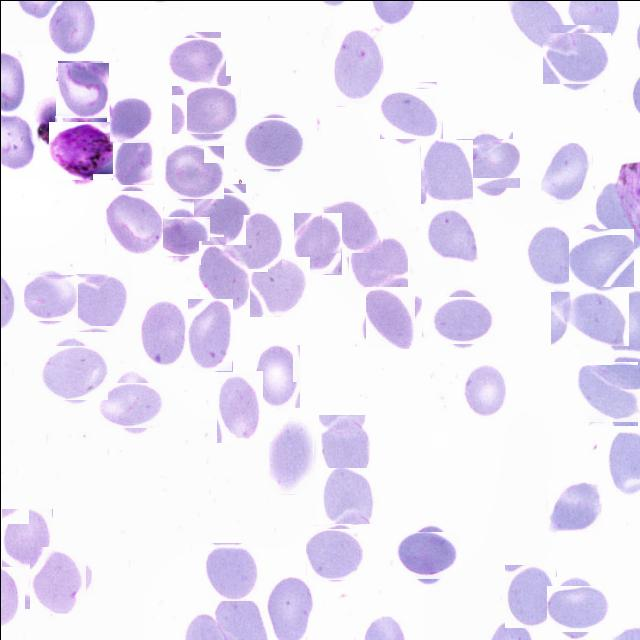gametocyte: (51, 118, 115, 182)
red blood cell: (550, 291, 628, 345), (570, 225, 632, 288), (26, 548, 88, 610), (42, 340, 104, 402), (334, 28, 382, 106), (104, 190, 162, 254), (578, 362, 638, 423), (66, 272, 126, 332), (546, 28, 606, 88), (248, 256, 308, 316), (198, 240, 248, 312), (138, 295, 186, 369), (318, 414, 370, 482), (176, 80, 235, 139), (244, 113, 303, 172), (348, 235, 408, 292), (419, 139, 472, 203), (163, 143, 221, 201), (104, 376, 162, 434), (458, 134, 516, 192), (525, 224, 578, 287), (216, 370, 262, 442), (382, 85, 440, 142), (187, 298, 232, 371), (504, 564, 556, 627), (204, 542, 259, 601), (268, 422, 313, 494), (422, 204, 477, 262), (540, 142, 592, 203), (399, 527, 455, 583), (307, 526, 363, 582), (362, 288, 418, 344), (547, 474, 601, 532), (223, 214, 281, 268), (55, 60, 109, 118), (321, 201, 382, 252), (434, 291, 489, 347), (1, 508, 52, 567), (293, 212, 341, 274), (550, 580, 604, 635), (321, 467, 374, 523), (255, 343, 300, 408), (169, 34, 223, 87), (197, 188, 250, 240), (24, 272, 76, 322), (156, 210, 204, 260), (112, 134, 154, 191), (461, 363, 506, 416), (107, 96, 153, 142)
